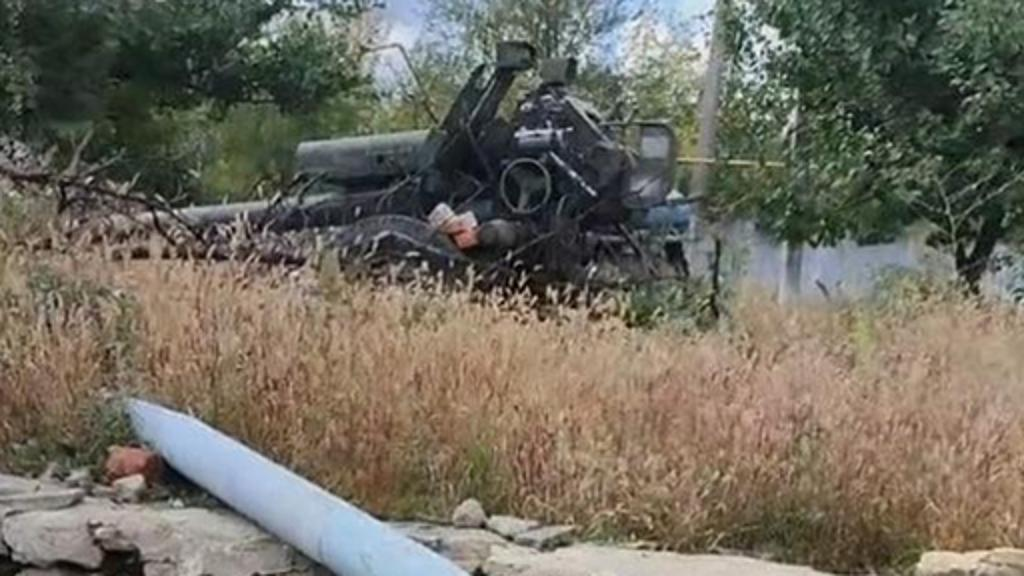ART: (36, 58, 724, 328)
